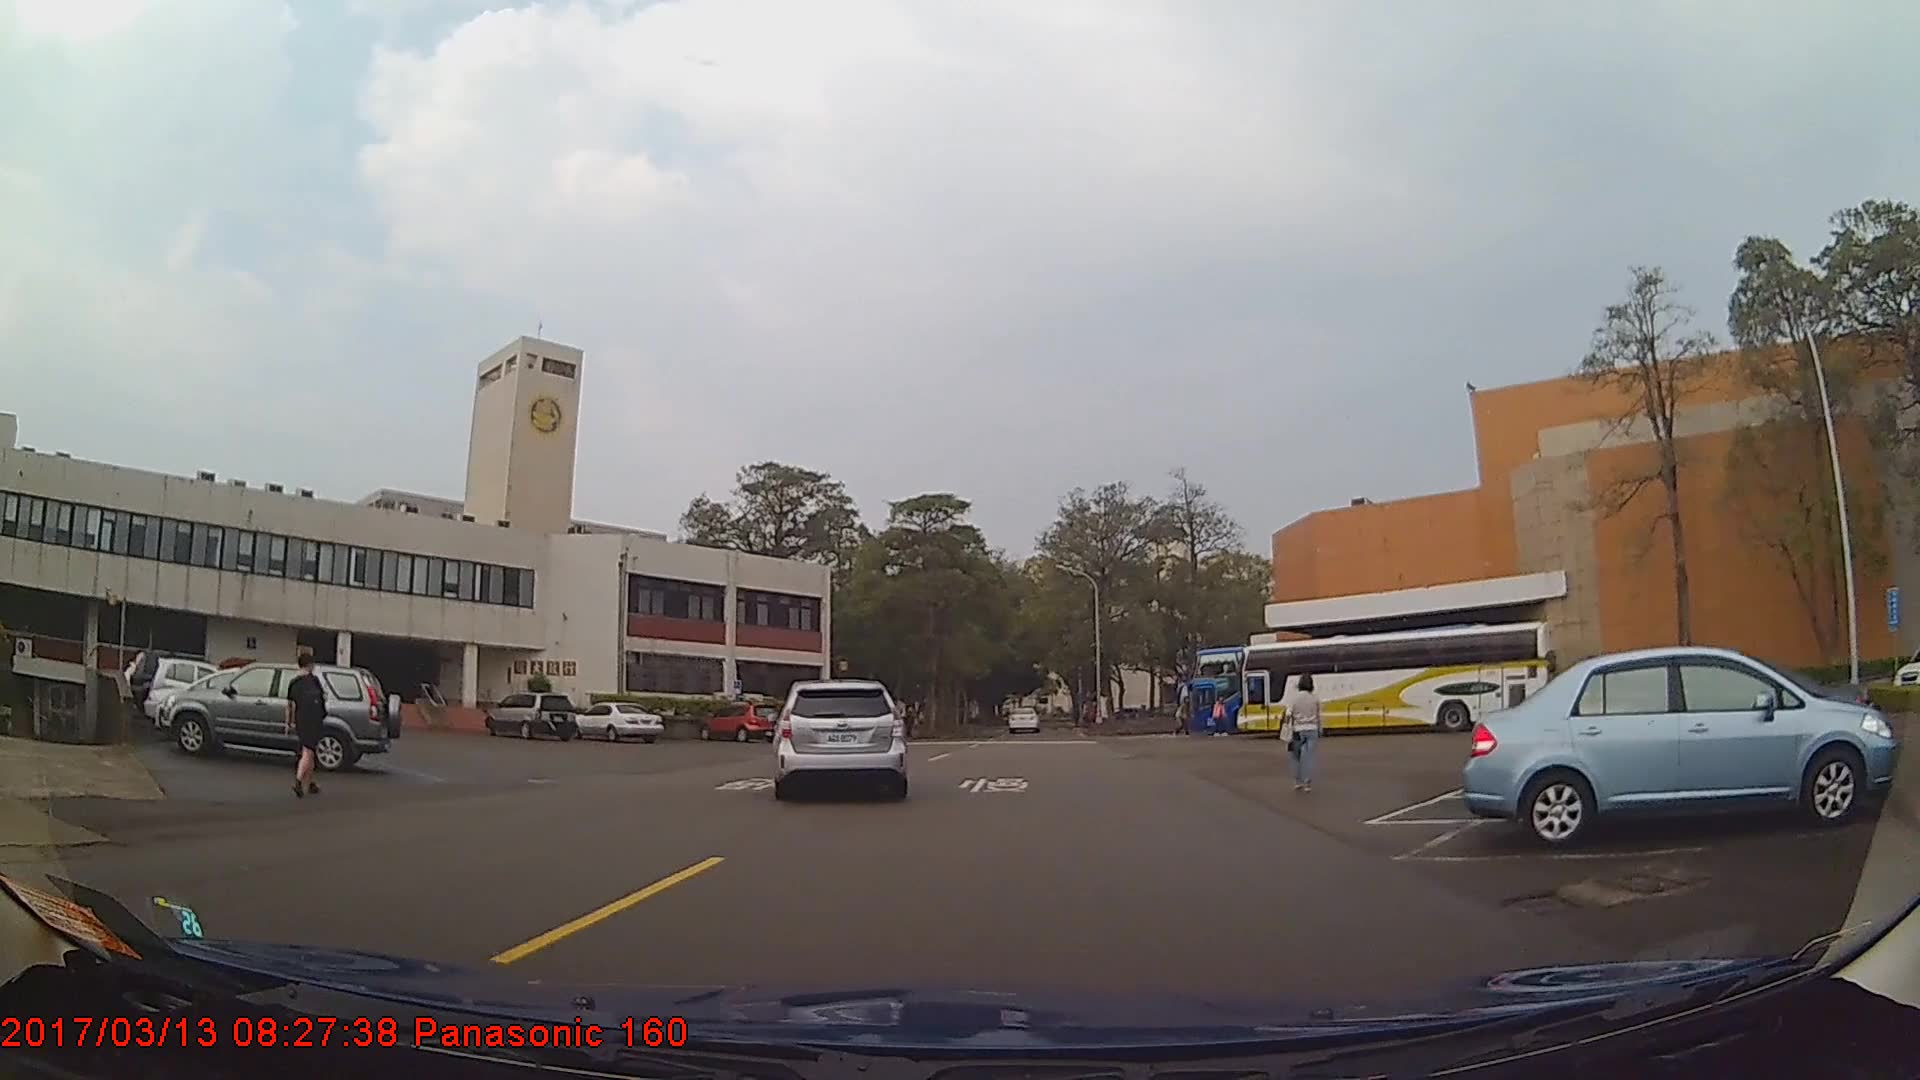pedestrian: (282, 649, 333, 796), (1283, 672, 1325, 791)
vehicle: (1465, 642, 1894, 852), (1237, 620, 1554, 742), (159, 661, 398, 771), (1186, 644, 1446, 735), (775, 678, 904, 799), (148, 653, 255, 718), (485, 691, 577, 742), (571, 697, 666, 741), (696, 699, 783, 739), (1007, 707, 1041, 734)
